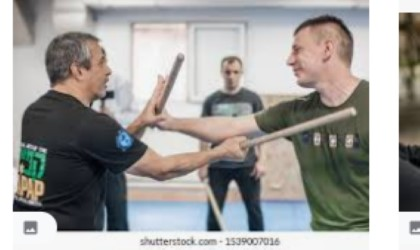baston_e: (245, 108, 340, 150), (196, 180, 239, 228), (149, 65, 180, 112)
baston_v: (345, 105, 360, 120), (174, 50, 186, 65), (146, 122, 156, 131)
